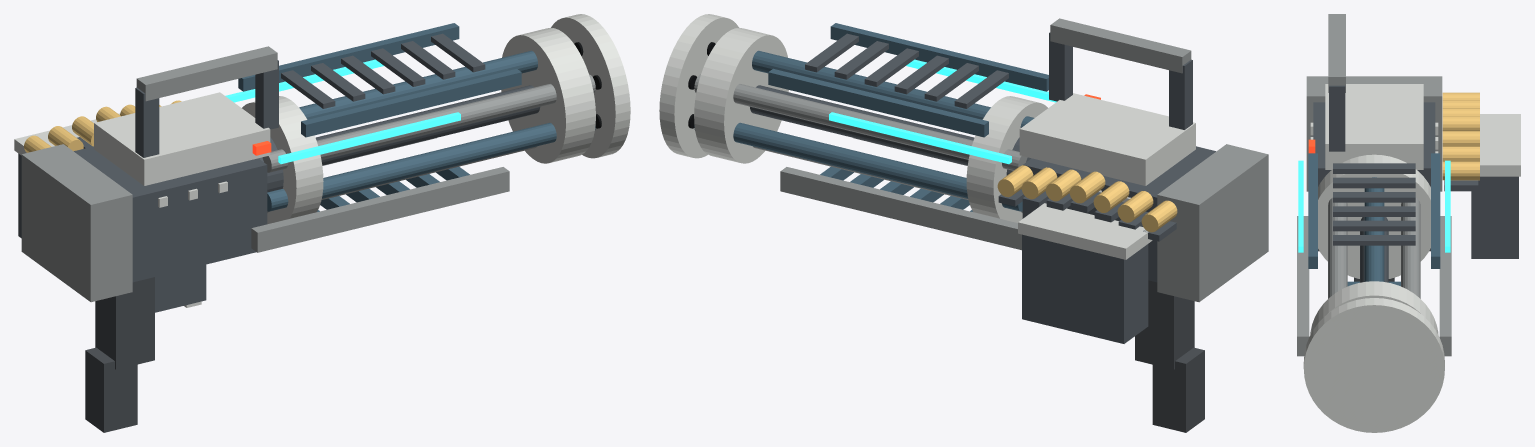
The model's file is lg_duel_machine_gun_minigun_steel.glb.
3 renders of one model, left to right at view 1: azimuth 30°, elevation 25°; view 2: azimuth 150°, elevation 25°; view 3: azimuth 270°, elevation 25°, orthographic. The views are drawn at different scales.
Parts seen in each view (by area): view 1: rear_motor_cap_round_proxy, rear_steel_receiver_block, upper_feed_cover_bright_steel, front_barrel_cluster_collar, left_side_steel_frame_rail, rotating_barrel_04_steel_tube, front_polished_muzzle_ring, rear_black_vertical_grip, rotating_barrel_03_steel_tube, rear_barrel_cluster_collar, left_upper_heatshield_rail, rear_black_vertical_grip_lower (+15 smaller); view 2: rear_motor_cap_round_proxy, left_feed_box_dark_steel, upper_feed_cover_bright_steel, front_barrel_cluster_collar, right_side_steel_frame_rail, rotating_barrel_06_steel_tube, front_polished_muzzle_ring, rear_barrel_cluster_collar, rotating_barrel_01_steel_tube, left_feed_box_bright_lid, right_upper_heatshield_rail, rear_black_vertical_grip_lower (+23 smaller); view 3: front_polished_muzzle_ring, upper_feed_cover_bright_steel, rear_barrel_cluster_collar, left_feed_box_dark_steel, left_feed_box_bright_lid, rear_motor_cap_round_proxy, front_barrel_cluster_collar, rear_steel_receiver_block, left_side_steel_frame_rail, right_side_steel_frame_rail, rotating_barrel_01_steel_tube, rotating_barrel_03_steel_tube (+22 smaller).
Part boxes in pixels (box(x1,y1,x2,y2)): rear_motor_cap_round_proxy: box(21, 144, 132, 302); rear_steel_receiver_block: box(74, 146, 267, 282); upper_feed_cover_bright_steel: box(94, 92, 270, 185); front_barrel_cluster_collar: box(501, 27, 595, 163); left_side_steel_frame_rail: box(251, 167, 509, 252); rotating_barrel_04_steel_tube: box(267, 122, 595, 211); front_polished_muzzle_ring: box(551, 14, 630, 158); rear_black_vertical_grip: box(95, 277, 154, 369); rotating_barrel_03_steel_tube: box(262, 74, 595, 172); rear_barrel_cluster_collar: box(242, 96, 323, 224); left_upper_heatshield_rail: box(301, 69, 521, 137); rear_black_vertical_grip_lower: box(85, 347, 137, 432); rear_motor_cap_round_proxy: box(1157, 144, 1268, 302); left_feed_box_dark_steel: box(1022, 234, 1148, 343); upper_feed_cover_bright_steel: box(1019, 93, 1195, 185); front_barrel_cluster_collar: box(694, 27, 788, 163); right_side_steel_frame_rail: box(780, 167, 1021, 250); rotating_barrel_06_steel_tube: box(694, 122, 1022, 211); front_polished_muzzle_ring: box(659, 14, 738, 158); rear_barrel_cluster_collar: box(966, 96, 1047, 222); rotating_barrel_01_steel_tube: box(694, 74, 1027, 170); left_feed_box_bright_lid: box(1018, 203, 1152, 259); right_upper_heatshield_rail: box(768, 68, 988, 137); rear_black_vertical_grip_lower: box(1152, 347, 1204, 432); front_polished_muzzle_ring: box(1303, 298, 1444, 432); upper_feed_cover_bright_steel: box(1325, 84, 1423, 169); rear_barrel_cluster_collar: box(1318, 154, 1430, 278); left_feed_box_dark_steel: box(1471, 176, 1518, 258); left_feed_box_bright_lid: box(1480, 114, 1520, 176); rear_motor_cap_round_proxy: box(1306, 76, 1442, 191); front_barrel_cluster_collar: box(1310, 281, 1438, 334); rear_steel_receiver_block: box(1313, 102, 1435, 251); left_side_steel_frame_rail: box(1297, 216, 1309, 356); right_side_steel_frame_rail: box(1439, 216, 1451, 356); rotating_barrel_01_steel_tube: box(1401, 198, 1420, 298); rotating_barrel_03_steel_tube: box(1328, 197, 1347, 298).
Size of the model in its own units: 0.8975 by 0.56 by 0.33.
